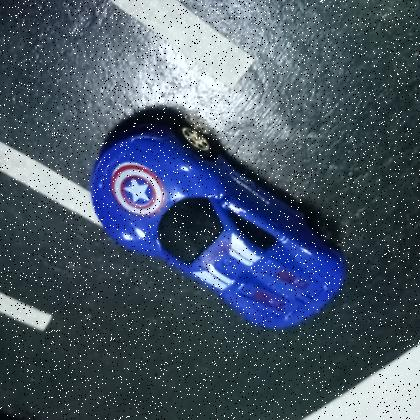Car: (87, 128, 348, 332)
